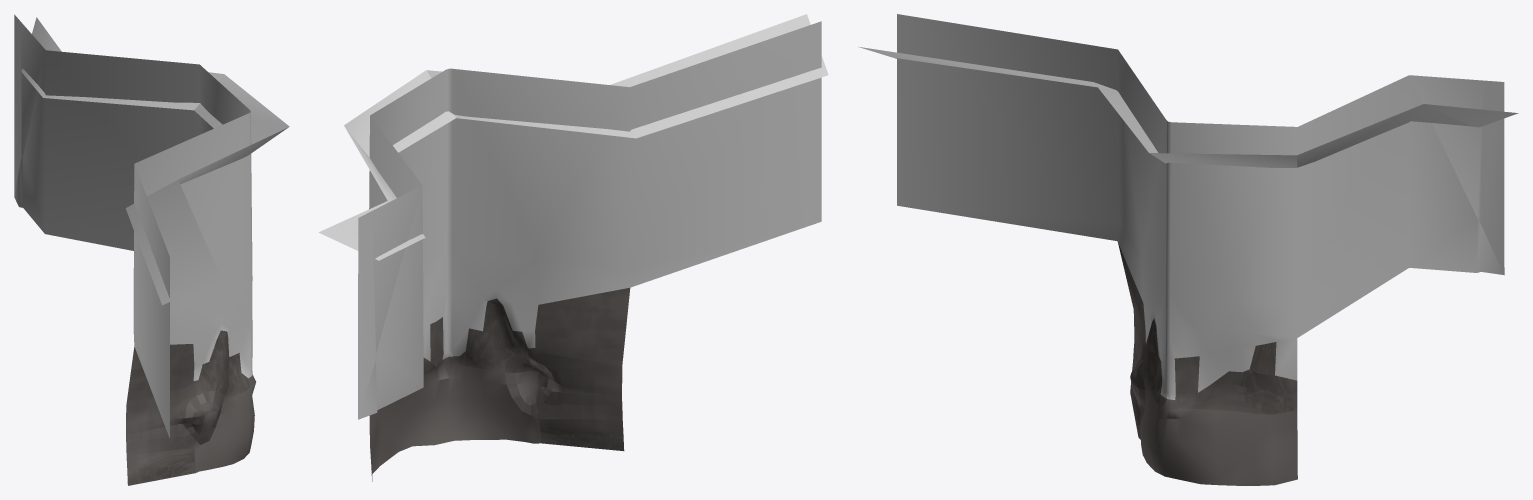
Rendered from SM_ENV_KNFRST_WireMesh_B_COL.FBX.
The picture shows the model from 3 angles, left to right: view 1: azimuth 30°, elevation 25°; view 2: azimuth 150°, elevation 25°; view 3: azimuth 270°, elevation 25°; orthographic projection. The views are drawn at different scales.
Parts seen in each view (by area): view 1: SM_ENV_KNFRST_WireMesh_B_COL; view 2: SM_ENV_KNFRST_WireMesh_B_COL; view 3: SM_ENV_KNFRST_WireMesh_B_COL.
Part boxes in pixels (bbox=[...]): SM_ENV_KNFRST_WireMesh_B_COL: bbox=[14, 14, 289, 485]; SM_ENV_KNFRST_WireMesh_B_COL: bbox=[318, 14, 828, 481]; SM_ENV_KNFRST_WireMesh_B_COL: bbox=[859, 14, 1518, 485].
Size of the model in its own units: 4887 by 6297 by 10589.
